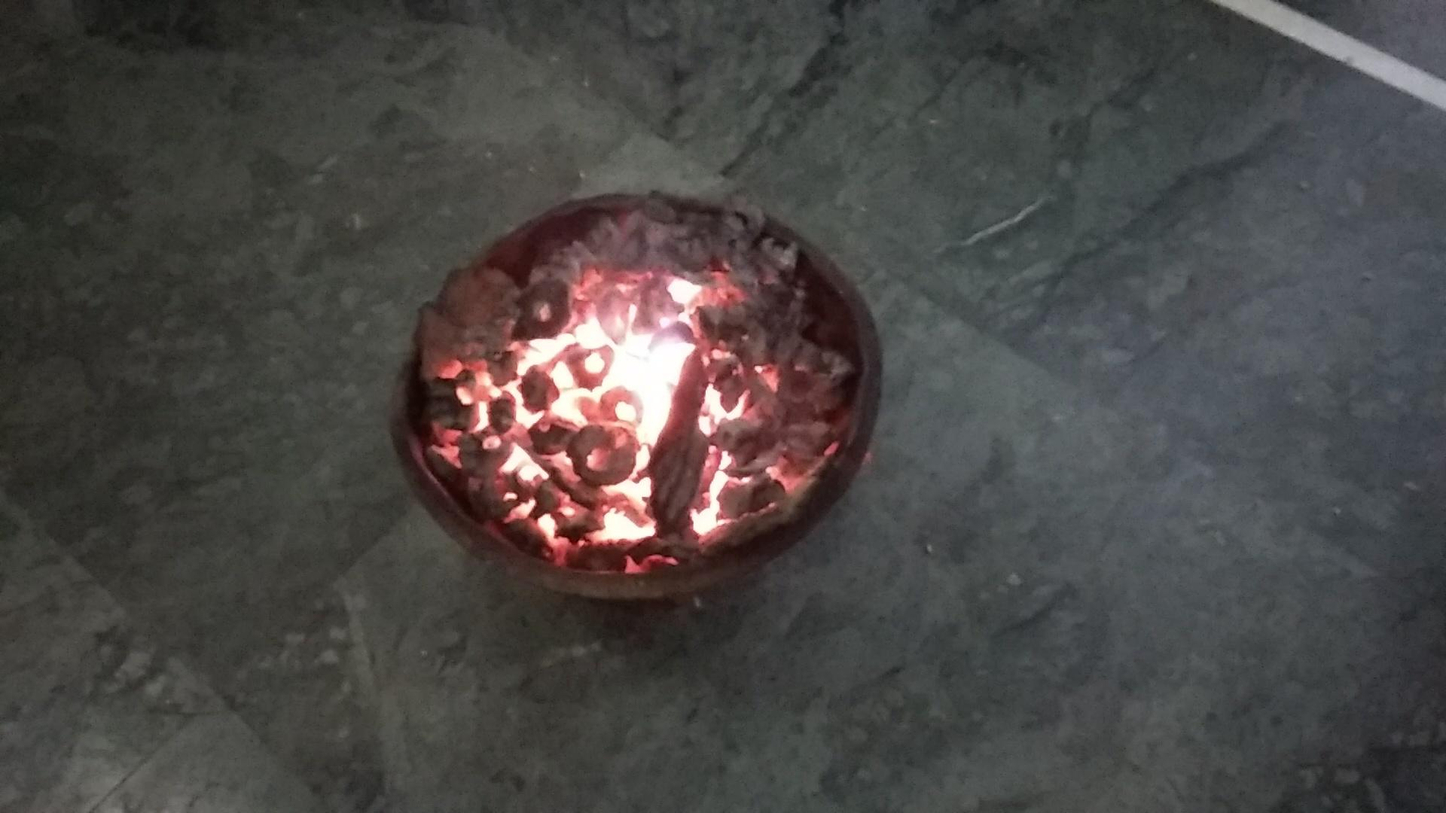fire: (426, 264, 770, 573)
